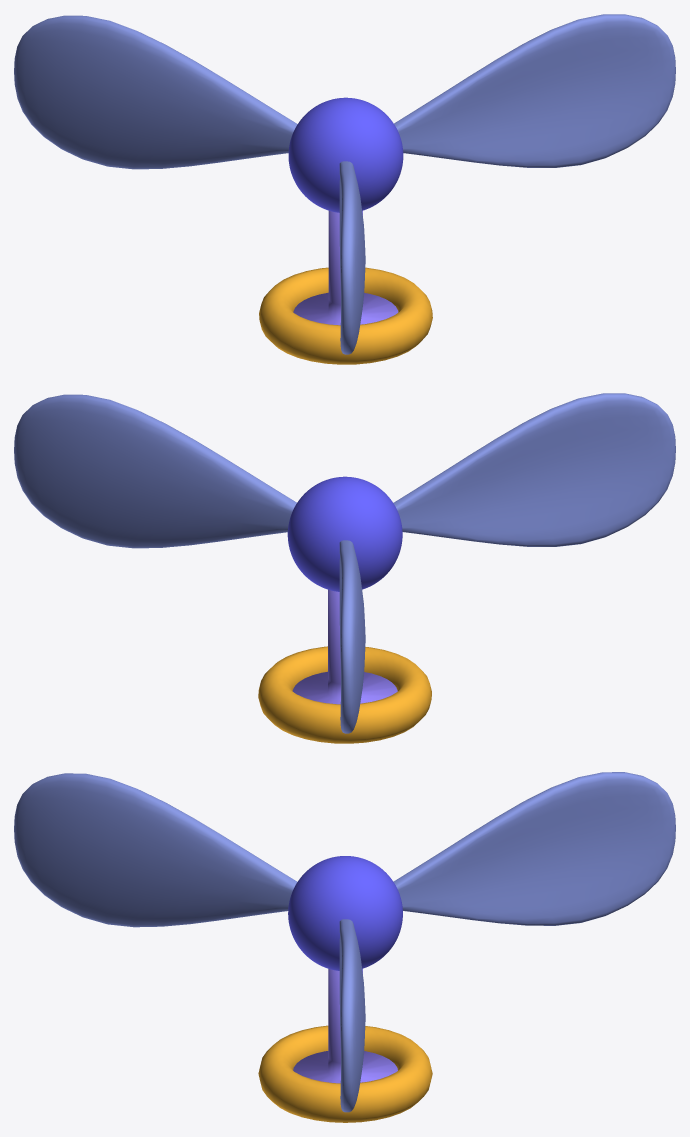
File: ch2_프로펠.fbx
The picture shows the model from 3 angles, top to bottom: view 1: azimuth 30°, elevation 25°; view 2: azimuth 150°, elevation 25°; view 3: azimuth 270°, elevation 25°; orthographic projection.
Visible parts, largest first — view 1: Cube.001, Torus; view 2: Cube.001, Torus; view 3: Cube.001, Torus.
Boxes of the visible parts, x1,y1,x2,y2 form: Cube.001: (14,14,675,354); Torus: (259,210,432,364); Cube.001: (14,393,675,733); Torus: (258,589,431,743); Cube.001: (14,772,675,1112); Torus: (258,968,432,1122).
Bounding box in the file's own units: 28.13 × 13.99 × 32.34.
